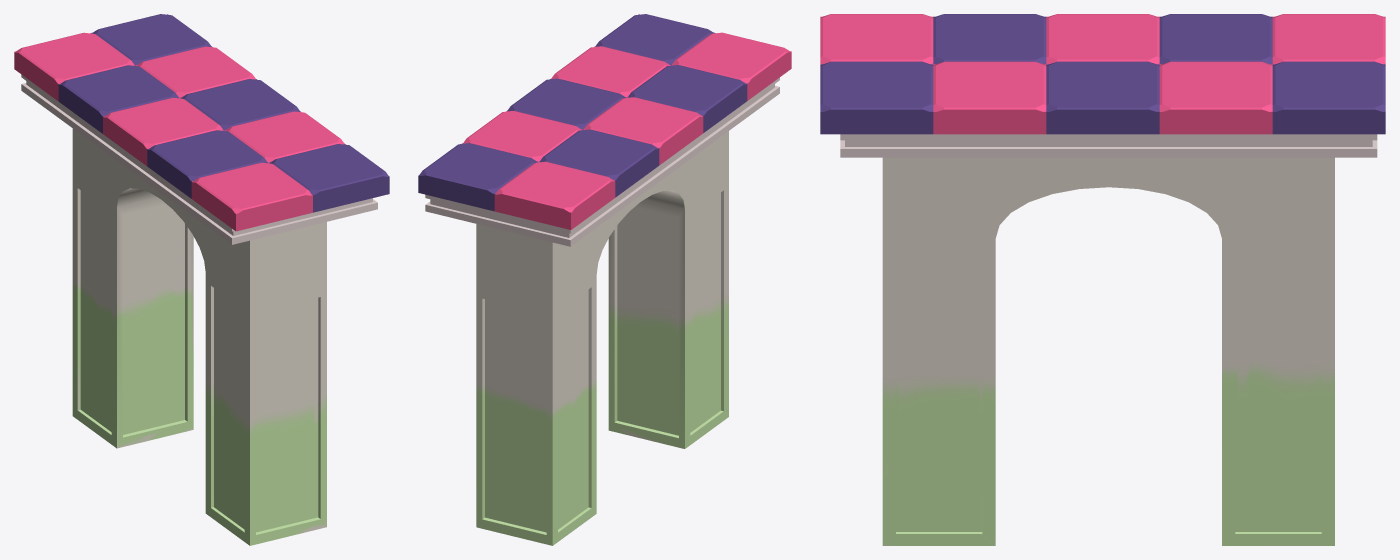
The model's file is column arch.fbx.
3 views of the same model, side by side, from view 1: azimuth 30°, elevation 25°; view 2: azimuth 150°, elevation 25°; view 3: azimuth 270°, elevation 25° (orthographic). The views are drawn at different scales.
Visible parts, largest first — view 1: Cube.043, Cube.029, Cube.031; view 2: Cube.043, Cube.029, Cube.031; view 3: Cube.043, Cube.029, Cube.031.
Part boxes in pixels (bbox=[...]): Cube.043: bbox=[72, 128, 326, 545]; Cube.029: bbox=[14, 14, 389, 231]; Cube.031: bbox=[21, 74, 377, 244]; Cube.043: bbox=[476, 131, 728, 545]; Cube.029: bbox=[418, 14, 791, 229]; Cube.031: bbox=[425, 77, 779, 246]; Cube.043: bbox=[882, 157, 1334, 545]; Cube.029: bbox=[820, 14, 1385, 134]; Cube.031: bbox=[840, 134, 1377, 157].
Size of the model in its own units: 200 by 450 by 500.
